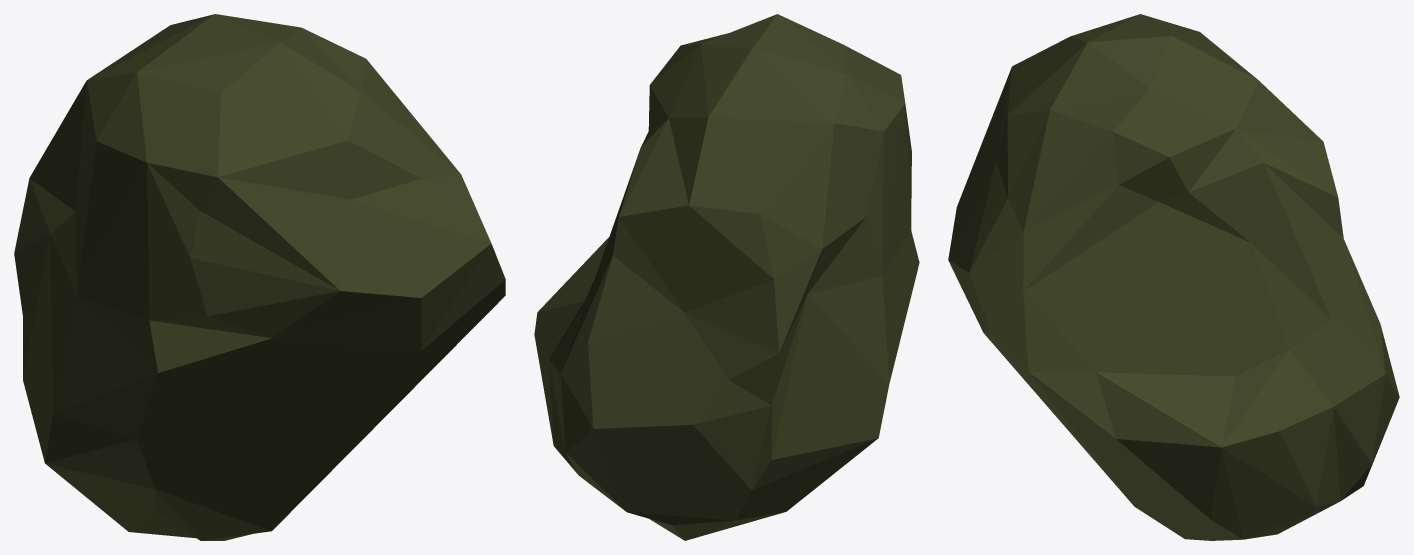
Rendered from SM_small_rock_02.fbx.
The picture shows the model from 3 angles, left to right: view 1: azimuth 30°, elevation 25°; view 2: azimuth 150°, elevation 25°; view 3: azimuth 270°, elevation 25°; orthographic projection. The views are drawn at different scales.
Visible parts, largest first — view 1: small_rock_02; view 2: small_rock_02; view 3: small_rock_02.
Part boxes in pixels (x1,y1,x2,y2): small_rock_02: [14, 14, 505, 540]; small_rock_02: [534, 14, 919, 540]; small_rock_02: [948, 14, 1399, 540].
Bounding box in the file's own units: 14.67 × 19.81 × 16.46.
